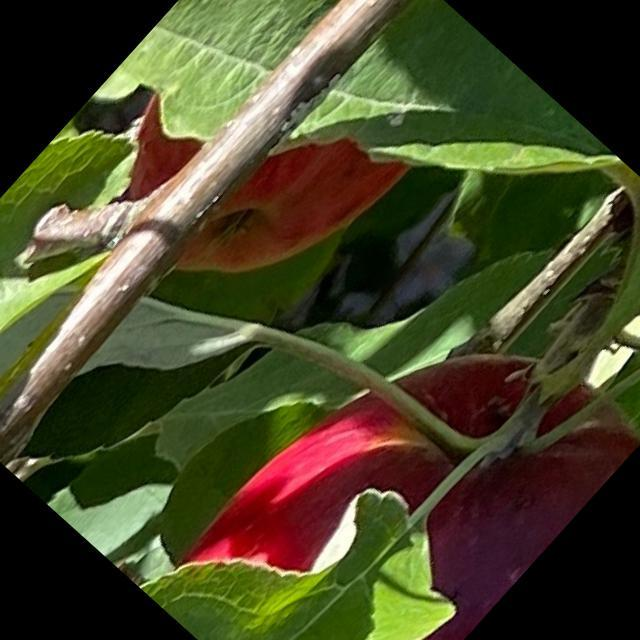100-_ripeness: (147, 253, 639, 639), (81, 4, 414, 336)
